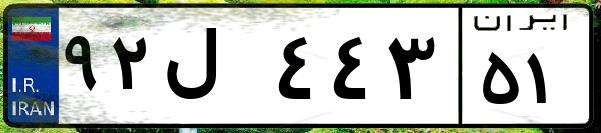1: (525, 38, 570, 115)
2: (110, 28, 158, 98)
3: (385, 28, 445, 110)
4: (270, 28, 330, 110), (330, 28, 385, 110)
5: (475, 38, 525, 113)
9: (57, 26, 110, 100)
ل: (158, 20, 270, 120)
